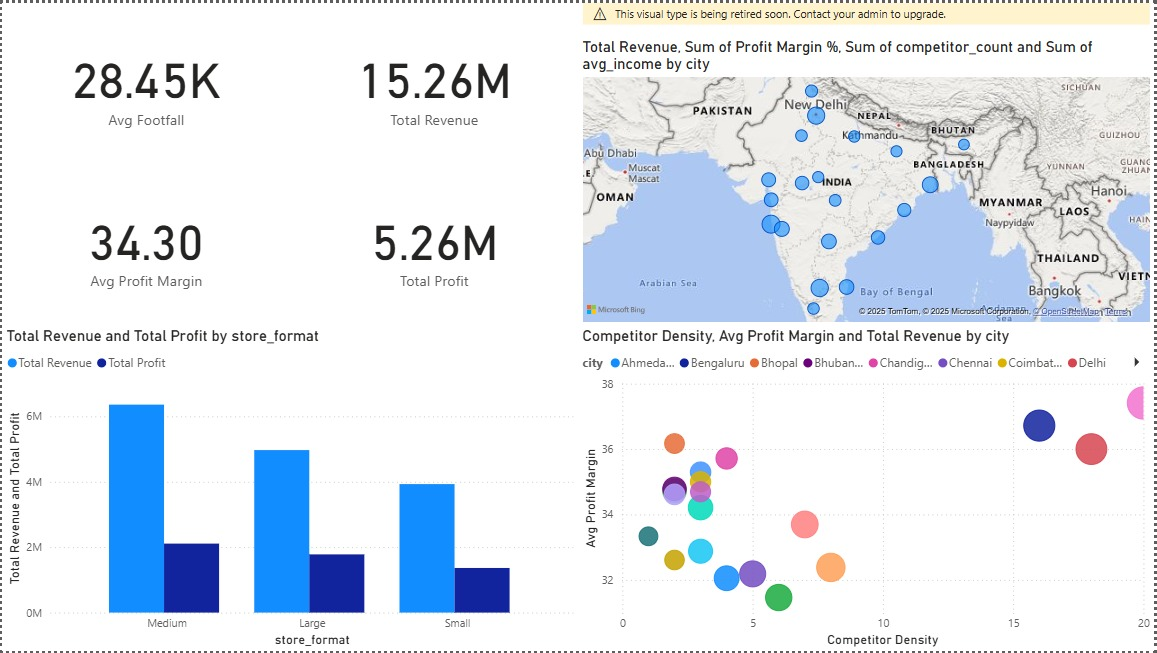

What the dashboard file says about the page in this screenshot:
{"tool":"powerbi","page":{"name":"Page 1","canvas":[1280,720],"ordinal":0},"visuals":[{"type":"card","fields":{"Values":["_Measure.Total Revenue"]},"box":[320,0,320,180],"z":0},{"type":"card","fields":{"Values":["_Measure.Avg Profit Margin"]},"box":[0,180,320,180],"z":1000},{"type":"card","fields":{"Values":["_Measure.Avg Footfall"]},"box":[0,0,320,180],"z":2000},{"type":"card","fields":{"Values":["_Measure.Total Profit"]},"box":[320,180,320,180],"z":3000},{"type":"map","fields":{"Category":["store_performance.city"],"Size":["_Measure.Total Revenue"]},"box":[640,0,640,360],"z":4000},{"type":"clusteredColumnChart","fields":{"Category":["store_performance.store_format"],"Y":["_Measure.Total Revenue","_Measure.Total Profit"]},"box":[0,360,640,360],"z":5000},{"type":"scatterChart","fields":{"X":["_Measure.Competitor Density"],"Y":["_Measure.Avg Profit Margin"],"Size":["_Measure.Total Revenue"],"Series":["store_performance.city"]},"box":[640,360,640,360],"z":6000}]}

Visuals, with their boxes in screenshot pixels (x1, y1, x2, y2), scaled from the page's 1280x720 canvas onto the 1157x653 screenshot:
card - _Measure.Total Revenue: 289 0 578 163
card - _Measure.Avg Profit Margin: 0 163 289 326
card - _Measure.Avg Footfall: 0 0 289 163
card - _Measure.Total Profit: 289 163 578 326
map - store_performance.city x _Measure.Total Revenue: 578 0 1156 326
clusteredColumnChart - store_performance.store_format x _Measure.Total Revenue: 0 326 578 652
scatterChart - _Measure.Competitor Density x _Measure.Avg Profit Margin: 578 326 1156 652
